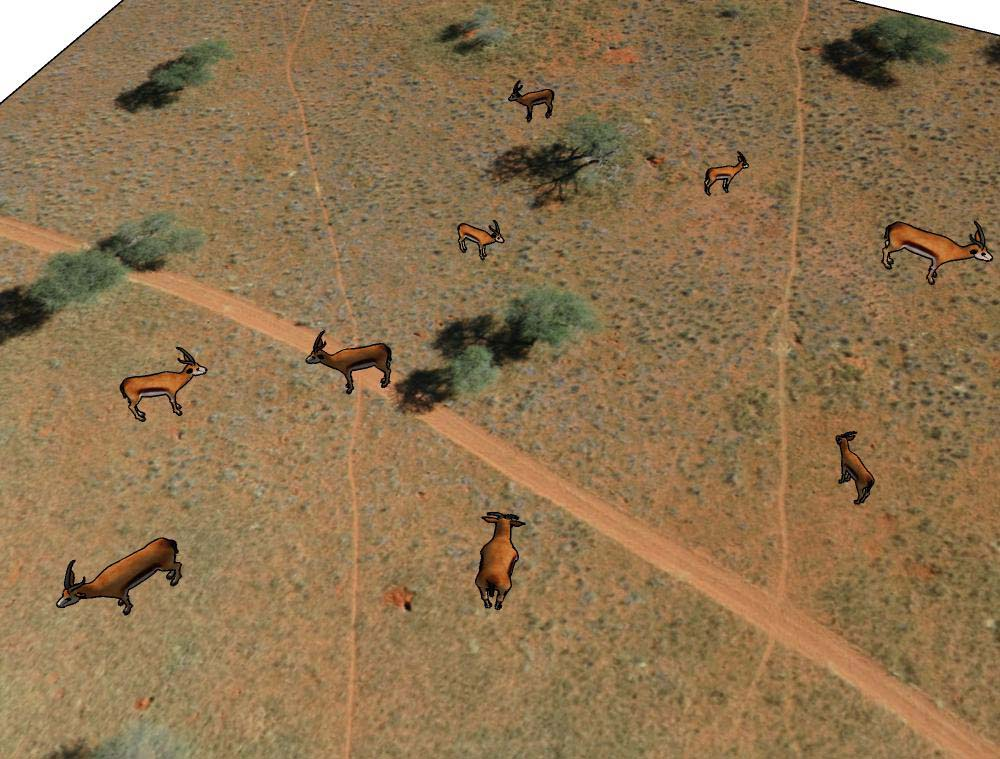springbok: (63, 536, 191, 618), (877, 216, 1000, 287), (118, 345, 212, 421), (303, 326, 398, 394), (474, 501, 525, 613), (825, 425, 879, 508), (701, 149, 751, 199), (446, 219, 503, 261), (505, 81, 557, 121)
